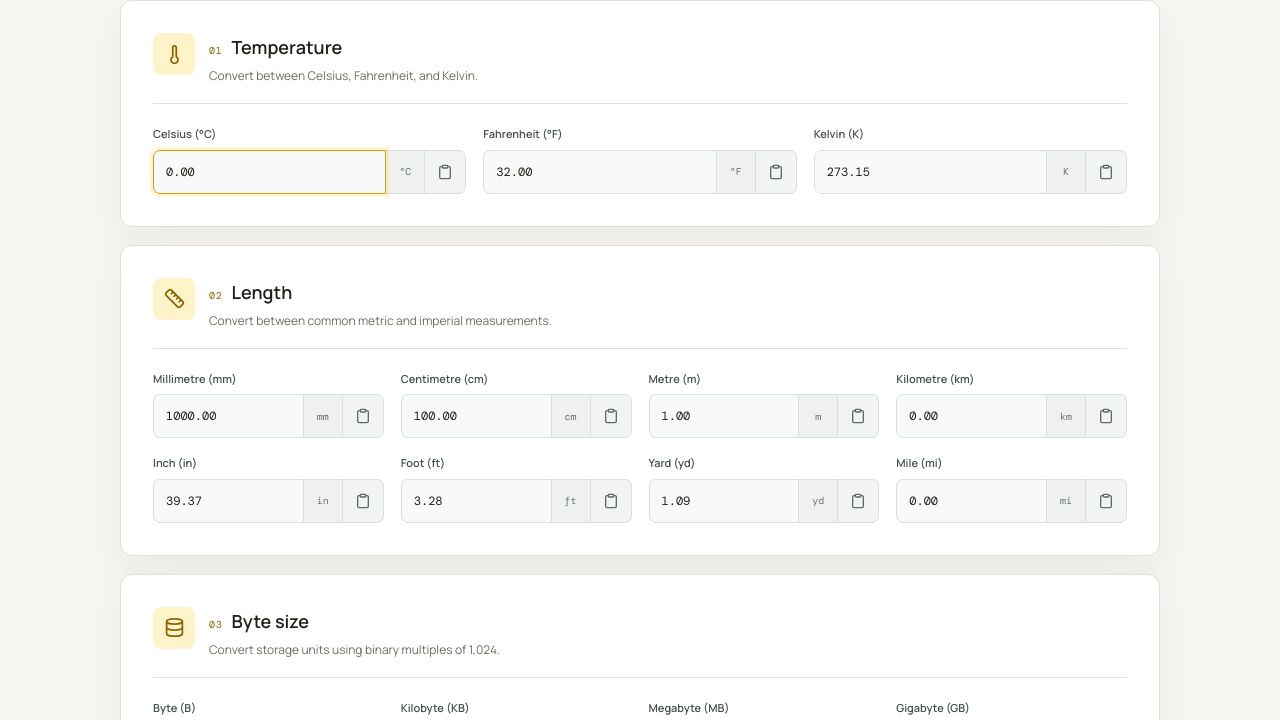
it: UnitConverterTool › converts temperature from any field and normalizes the source on blur
Replace the text in the field labelled "Fahrenheit (°F)" with "212" at (600, 172), box [483,150,717,194]
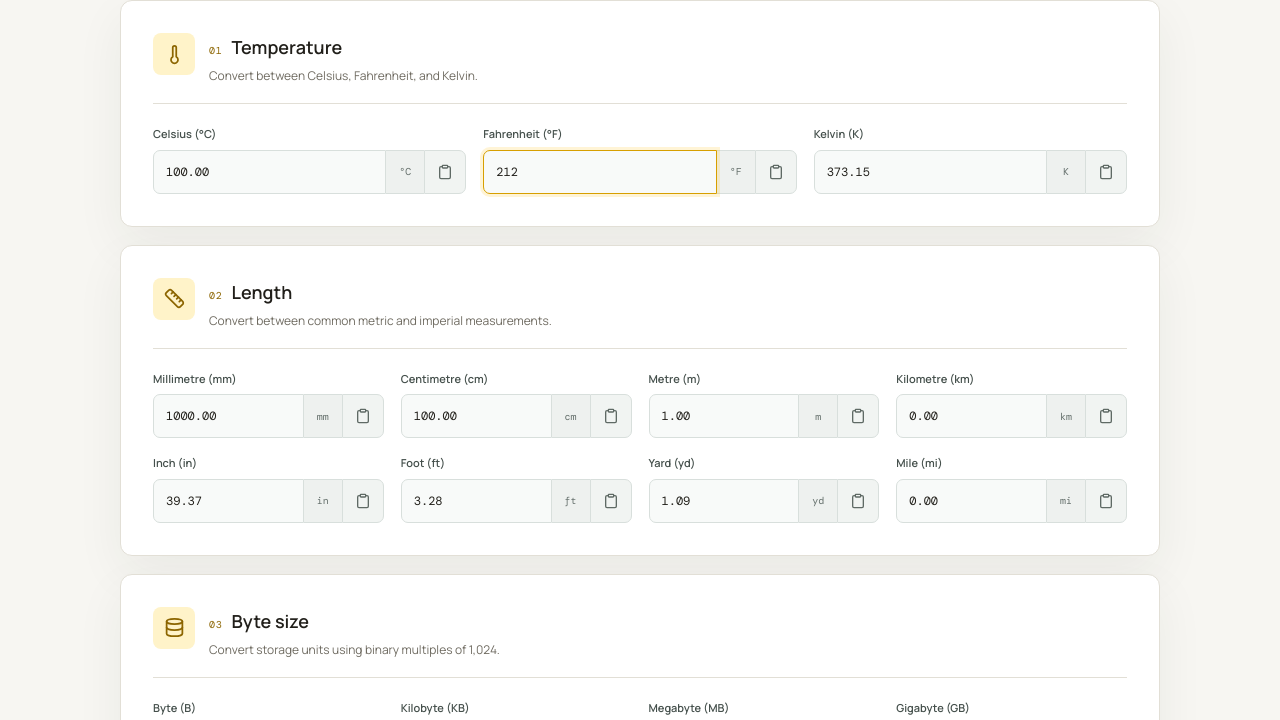
expect the field labelled "Celsius (°C)" holds "100.00": met, box [153,150,386,194]
expect the field labelled "Kelvin (K)" holds "373.15": met, box [814,150,1047,194]
Press Tab
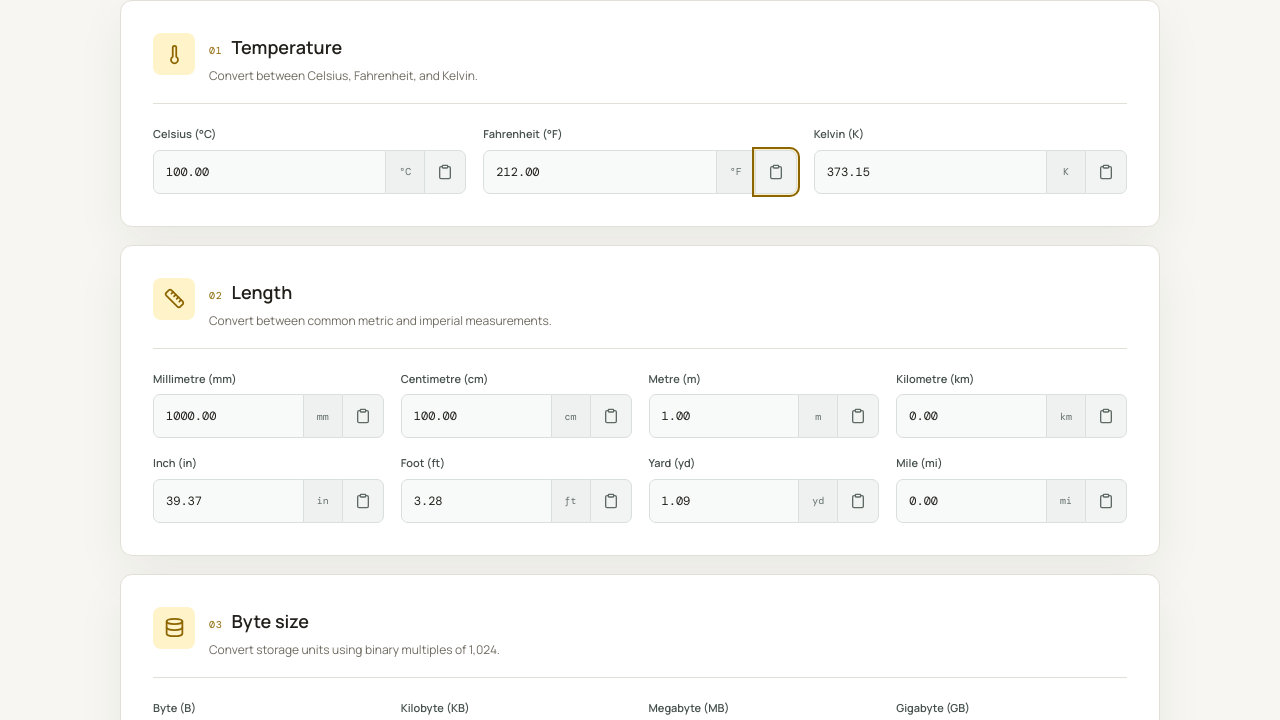
expect the field labelled "Fahrenheit (°F)" holds "212.00": met, box [483,150,717,194]
